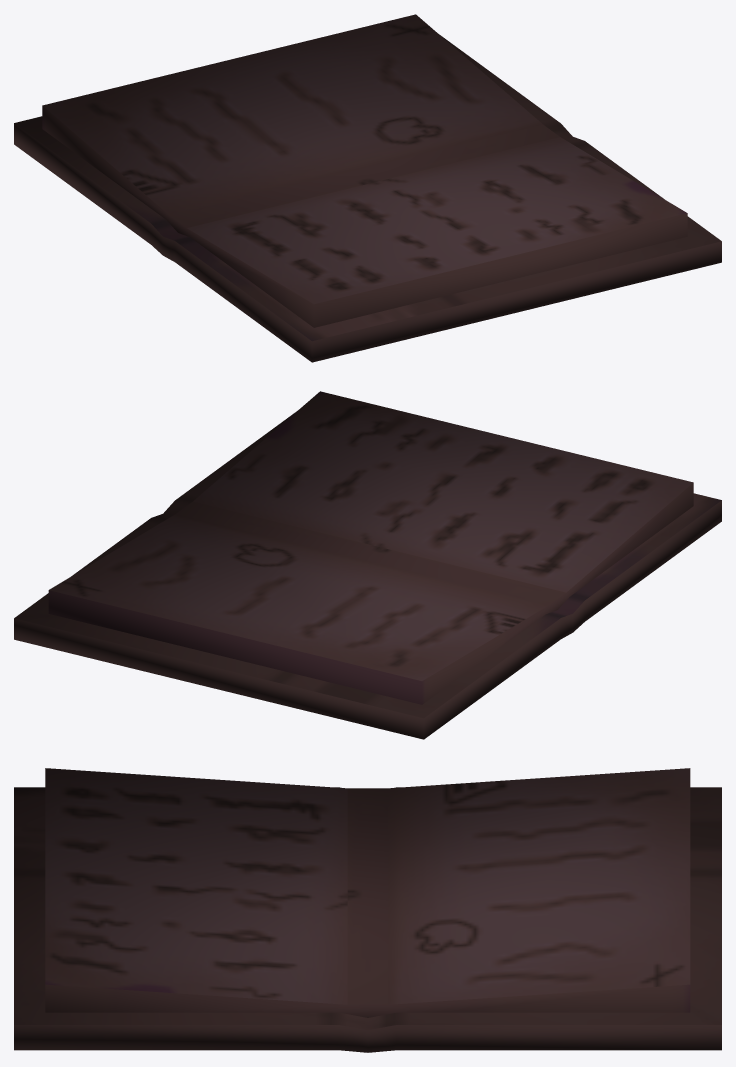
File: LivroAberto.fbx
3 renders of one model, top to bottom at view 1: azimuth 30°, elevation 25°; view 2: azimuth 150°, elevation 25°; view 3: azimuth 270°, elevation 25°, orthographic. The views are drawn at different scales.
Parts seen in each view (by area): view 1: LivroAberto; view 2: LivroAberto; view 3: LivroAberto.
Part boxes in pixels (x1=…): LivroAberto: x1=14, y1=14, x2=721, y2=362; LivroAberto: x1=14, y1=391, x2=721, y2=739; LivroAberto: x1=14, y1=768, x2=721, y2=1052.
Size of the model in its own units: 72.1 by 90.81 by 7.92.
